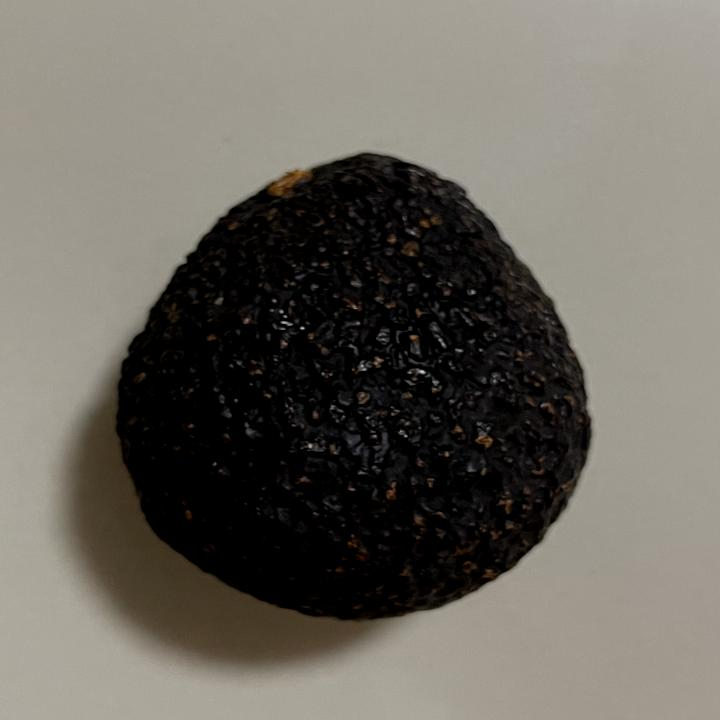Level3: (102, 141, 606, 631)
